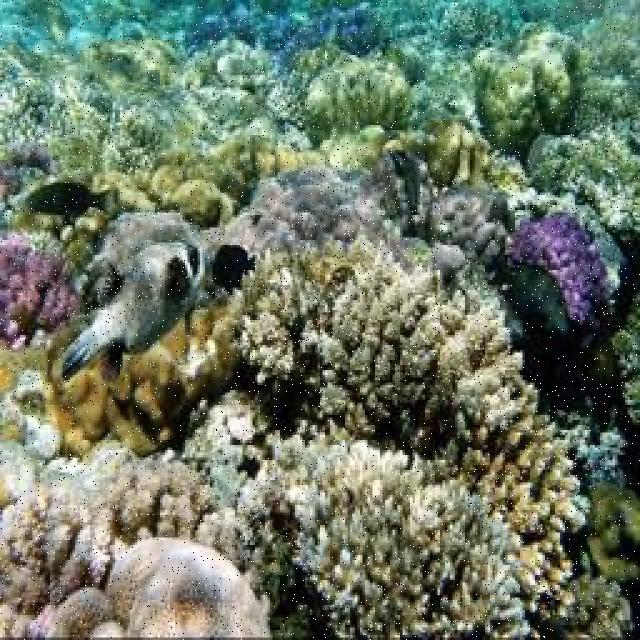fish: (59, 242, 202, 383), (588, 478, 638, 583), (26, 183, 115, 232), (211, 242, 257, 296), (387, 150, 422, 214)
reefs: (237, 419, 542, 638), (236, 240, 545, 447), (0, 462, 279, 638), (52, 293, 243, 454), (443, 412, 586, 617), (45, 537, 272, 638), (507, 212, 606, 321), (0, 237, 81, 352)
